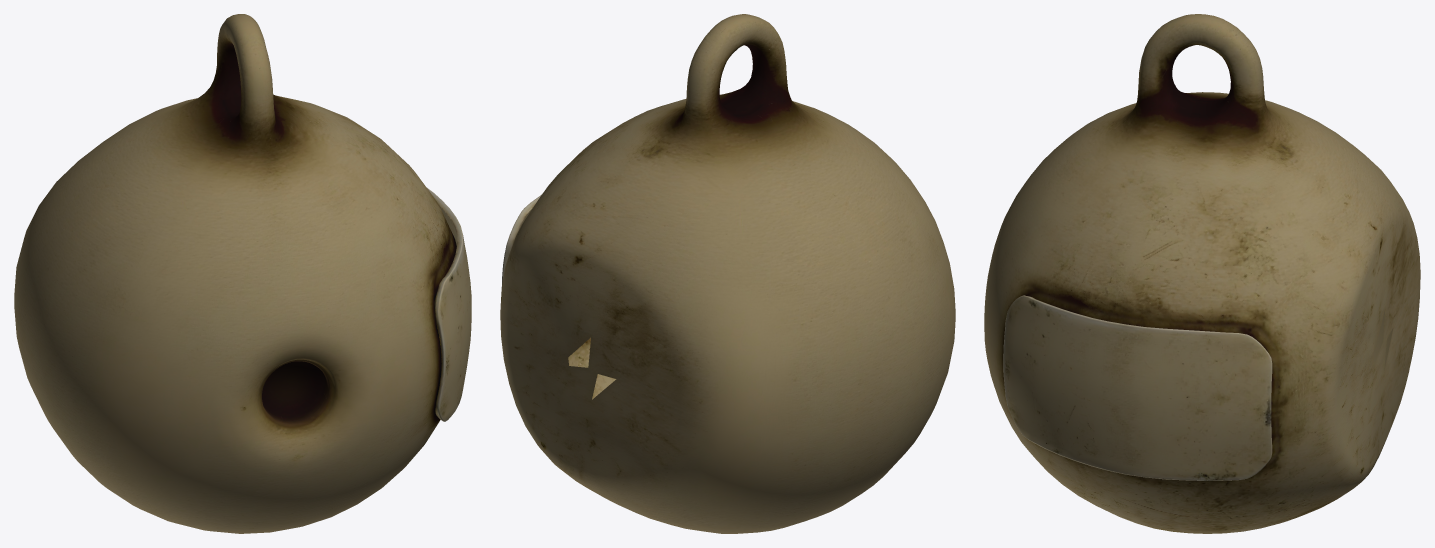
Rendered from nameless-bell.glb.
3 views of the same model, side by side, from view 1: azimuth 30°, elevation 25°; view 2: azimuth 150°, elevation 25°; view 3: azimuth 270°, elevation 25° (orthographic).
Parts seen in each view (by area): view 1: tripo_node_146cf648-1937-4922-bd16-6248eaebcbb3; view 2: tripo_node_146cf648-1937-4922-bd16-6248eaebcbb3; view 3: tripo_node_146cf648-1937-4922-bd16-6248eaebcbb3.
Part boxes in pixels (x1,y1,x2,y2): tripo_node_146cf648-1937-4922-bd16-6248eaebcbb3: (14,14,471,533); tripo_node_146cf648-1937-4922-bd16-6248eaebcbb3: (500,14,955,533); tripo_node_146cf648-1937-4922-bd16-6248eaebcbb3: (984,14,1420,533).
Size of the model in its own units: 0.8358 by 0.9995 by 0.8003.
Materials: 1 (1 with a texture image).
